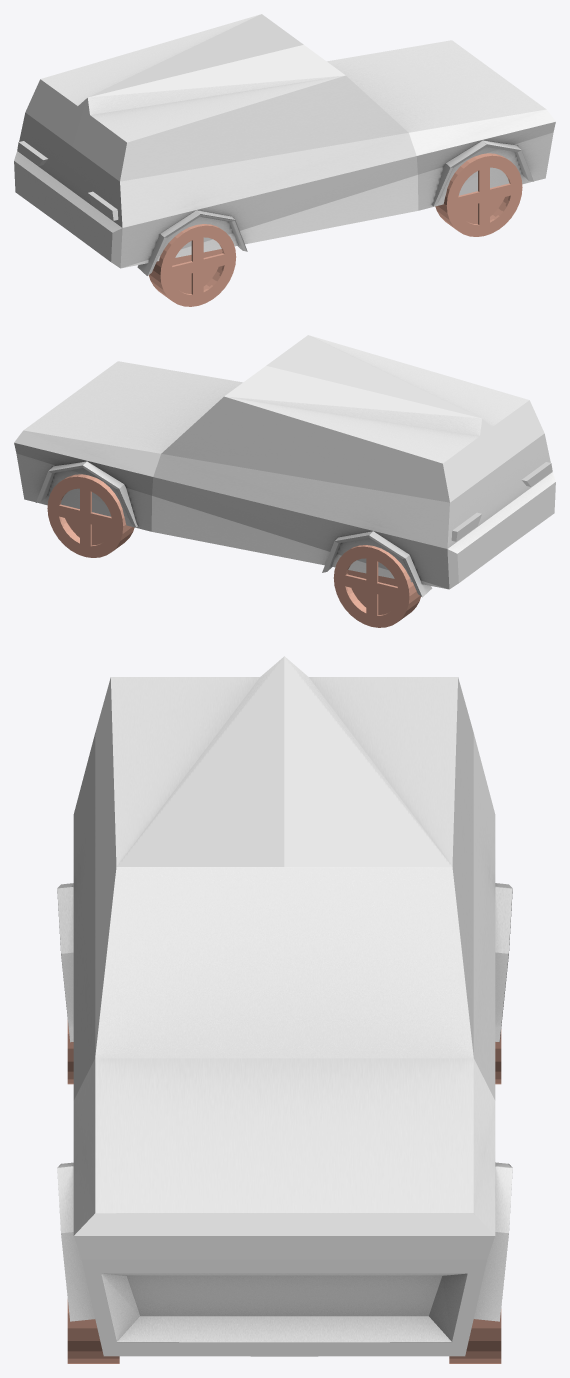
File: TestCarV8.gltf
The picture shows the model from 3 angles, top to bottom: view 1: azimuth 30°, elevation 25°; view 2: azimuth 150°, elevation 25°; view 3: azimuth 270°, elevation 25°; orthographic projection. The views are drawn at different scales.
Visible parts, largest first — view 1: body, wheel_RR, wheel_FR, lights_rear; view 2: body, wheel_RL, wheel_FL, lights_rear; view 3: body, wheel_FR, wheel_FL.
Part boxes in pixels (box(x1,y1,x2,y2)): body: box(14, 14, 555, 275); wheel_RR: box(148, 224, 236, 306); wheel_FR: box(435, 153, 522, 236); lights_rear: box(17, 141, 118, 220); body: box(14, 335, 555, 597); wheel_RL: box(333, 545, 420, 627); wheel_FL: box(47, 474, 134, 557); lights_rear: box(451, 462, 552, 541); body: box(57, 656, 512, 1356); wheel_FR: box(67, 1299, 119, 1363); wheel_FL: box(449, 1309, 501, 1363).
Size of the model in its own units: 3.88 by 1.54 by 1.74.
2 materials, 1 textured.
